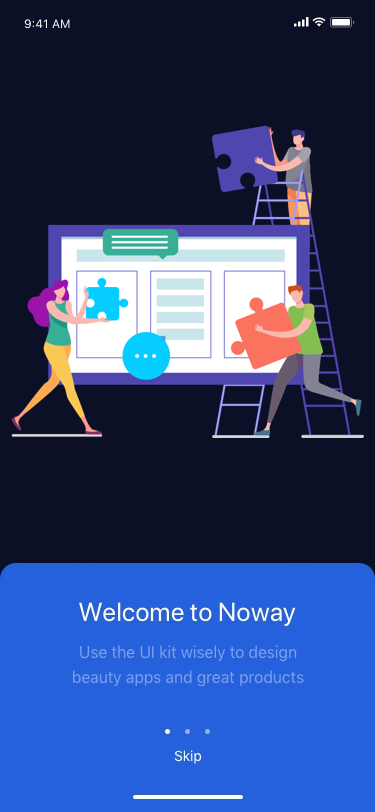Image: (11, 125, 366, 439)
PageIndicator: (164, 728, 211, 735)
Text: (73, 644, 305, 687), (79, 601, 296, 627), (174, 750, 202, 765)
UpperTaskBar: (25, 17, 356, 30)
